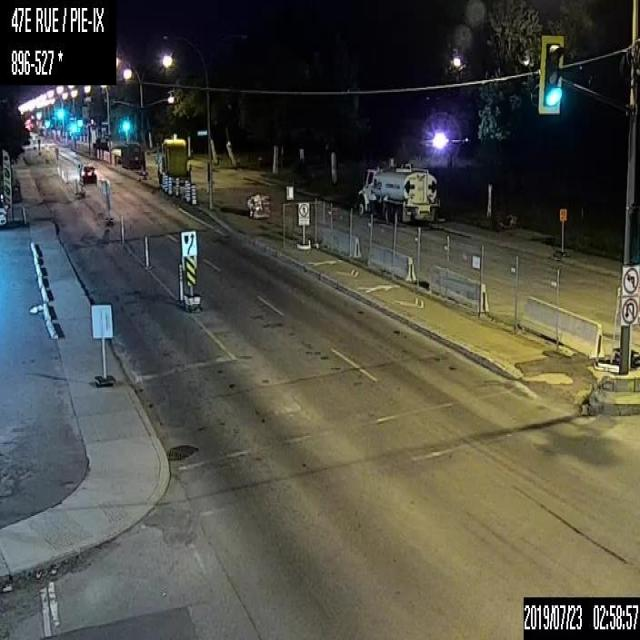construction: (177, 264, 183, 301), (144, 233, 149, 268), (184, 180, 190, 200), (120, 215, 124, 244), (190, 185, 196, 202), (175, 177, 180, 195), (160, 170, 164, 188), (164, 174, 168, 192), (167, 177, 171, 194)
vehicle: (353, 156, 440, 227), (78, 161, 98, 184)
